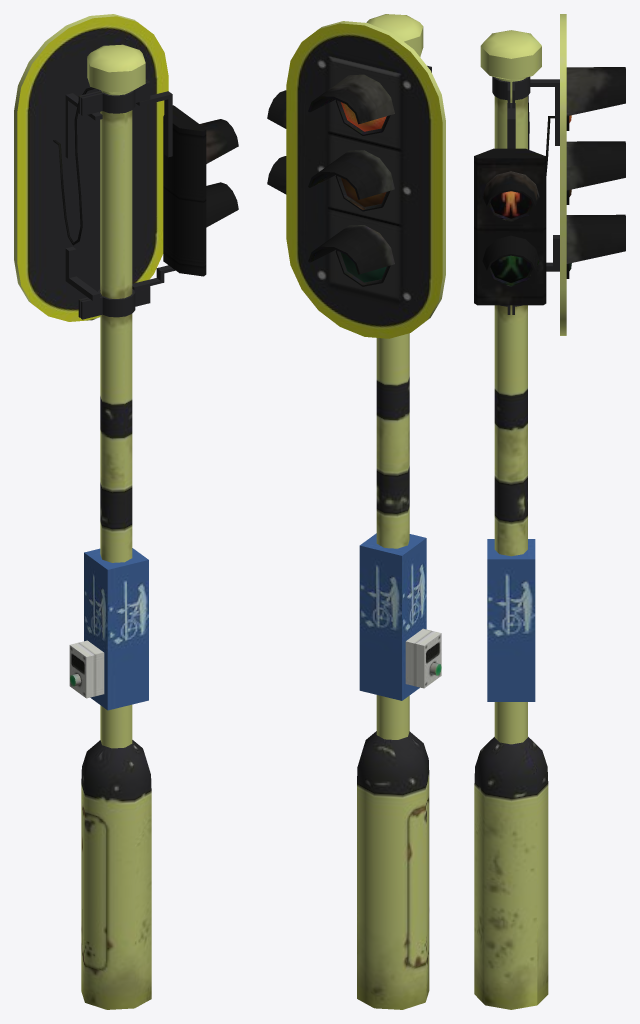
Rendered from trafficLight.glb.
The picture shows the model from 3 angles, left to right: view 1: azimuth 30°, elevation 25°; view 2: azimuth 150°, elevation 25°; view 3: azimuth 270°, elevation 25°; orthographic projection. The views are drawn at different scales.
Visible parts, largest first — view 1: Traffic_light_02 - Default_0; view 2: Traffic_light_02 - Default_0; view 3: Traffic_light_02 - Default_0.
Part boxes in pixels (bbox=[...]): Traffic_light_02 - Default_0: bbox=[14, 14, 238, 1009]; Traffic_light_02 - Default_0: bbox=[267, 14, 445, 1009]; Traffic_light_02 - Default_0: bbox=[474, 14, 625, 1009].
Bounding box in the file's own units: 51.08 × 252 × 35.74.
1 material, 1 textured.
